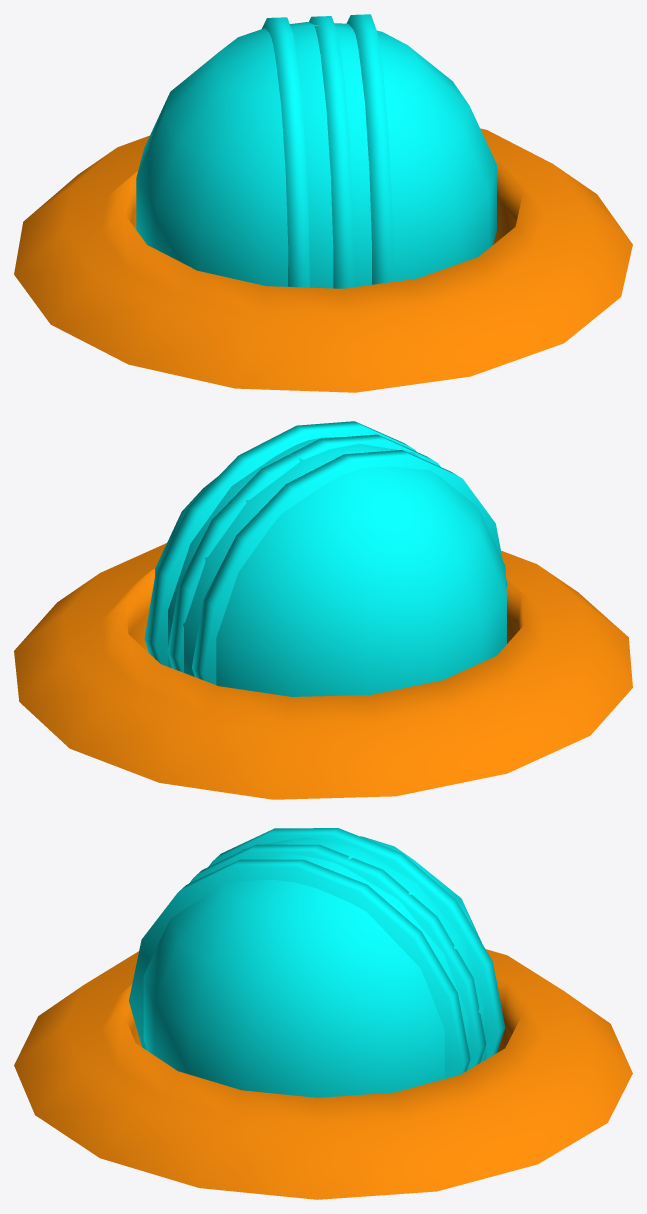
File: Lago_Helado LP 1.fbx
3 views of the same model, one above another, from view 1: azimuth 30°, elevation 25°; view 2: azimuth 150°, elevation 25°; view 3: azimuth 270°, elevation 25° (orthographic). The views are drawn at different scales.
Parts seen in each view (by area): view 1: Helado LP 1; view 2: Helado LP 1; view 3: Helado LP 1.
Part boxes in pixels (box(x1,y1,x2,y2)): Helado LP 1: box(14, 14, 632, 392); Helado LP 1: box(14, 421, 632, 799); Helado LP 1: box(14, 828, 632, 1199).
Bounding box in the file's own units: 251 × 118 × 254.
